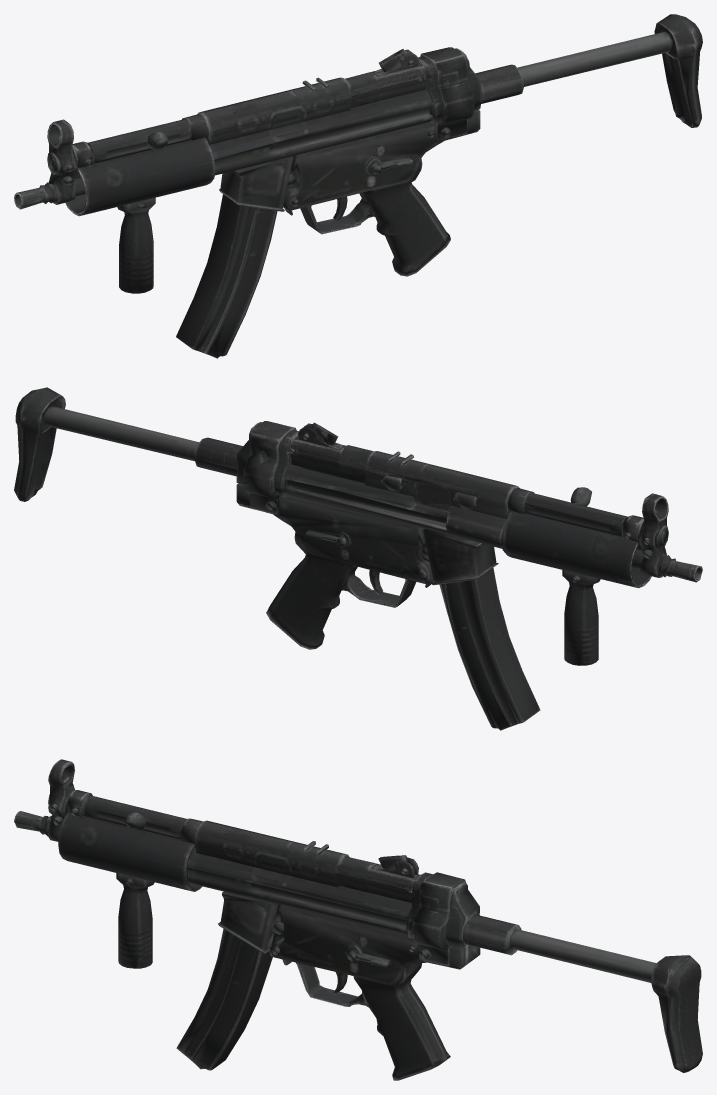
The model's file is arma_mitra.glb.
The picture shows the model from 3 angles, top to bottom: view 1: azimuth 30°, elevation 25°; view 2: azimuth 150°, elevation 25°; view 3: azimuth 330°, elevation 25°; orthographic projection.
Size of the model in its own units: 0.9536 by 0.355 by 0.087.
1 material, 1 textured.
